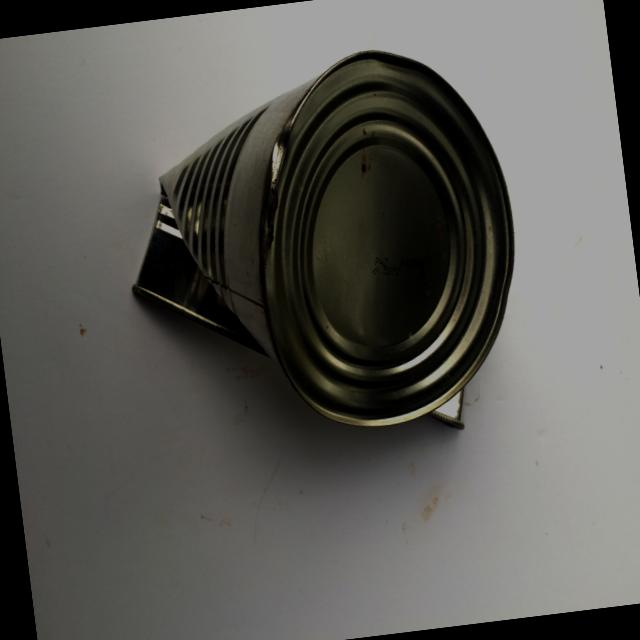Metal: (100, 12, 546, 478)
